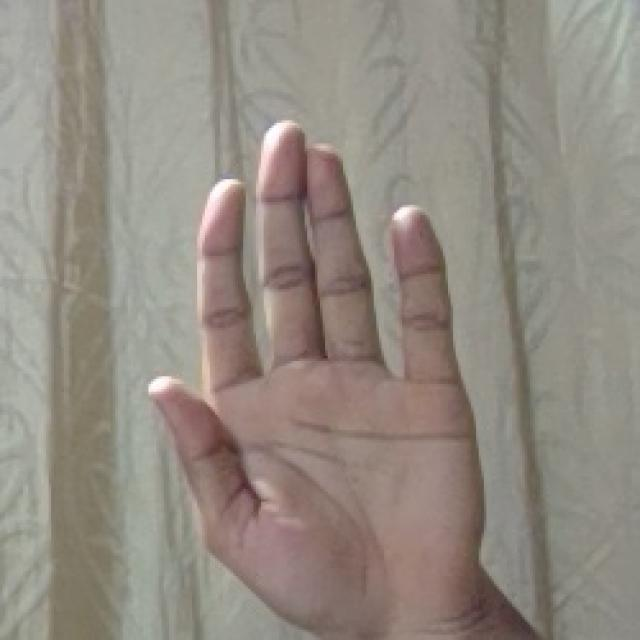Numeric-5: (148, 115, 490, 611)
